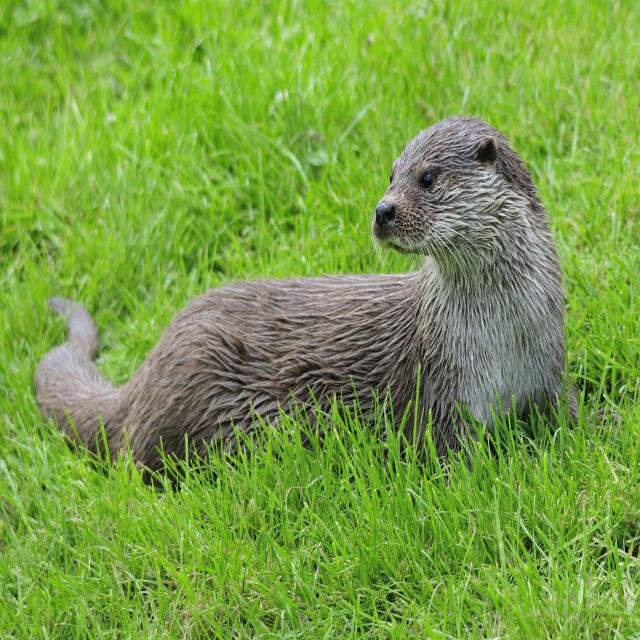otter: (38, 118, 568, 460)
